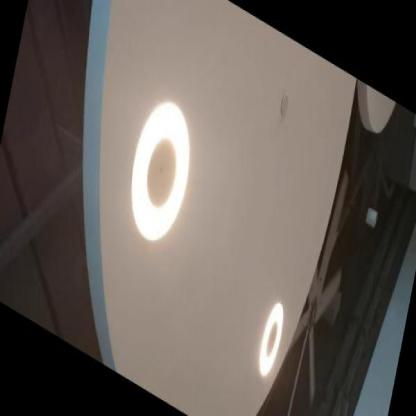light_on: (105, 56, 211, 288), (245, 277, 297, 400)
